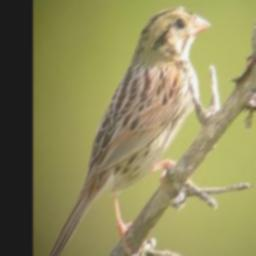Sparrow: (39, 1, 212, 256)
